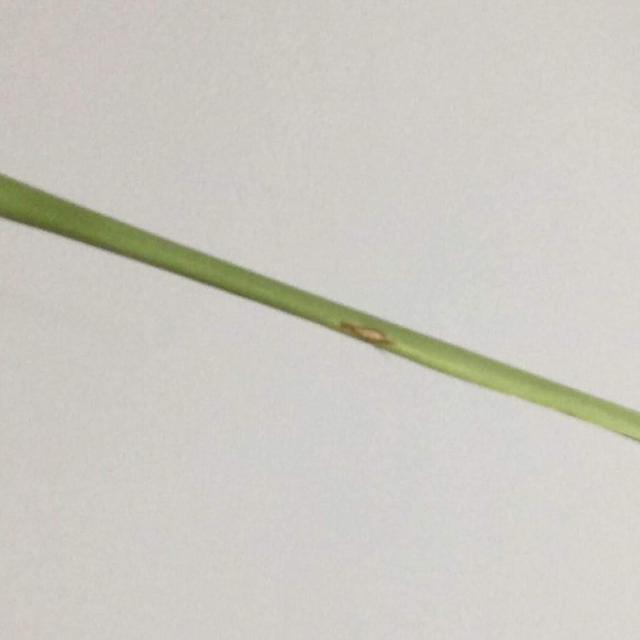Leaf blast: (1, 163, 640, 510)
